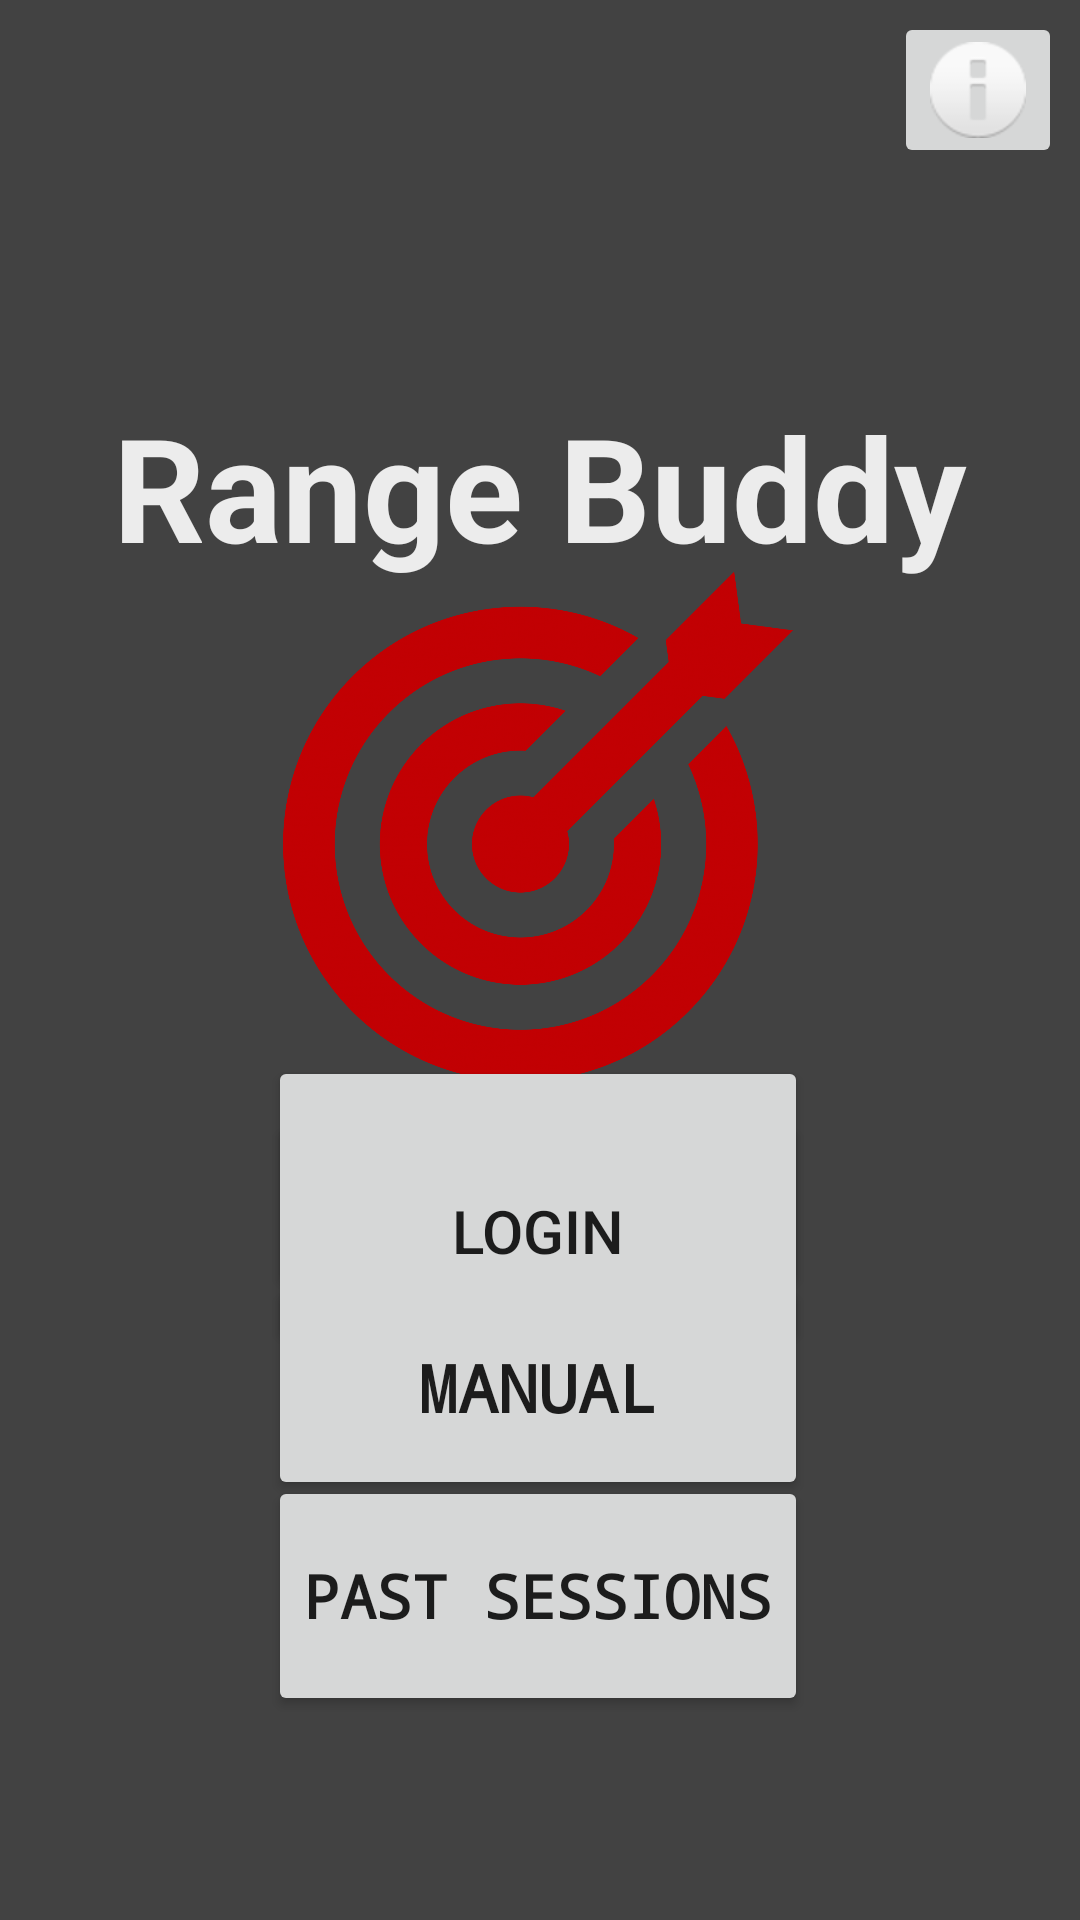

Named icons in this screenshot (1080×1920) and their bounding boxes, (x1, y1, x2, y2):
Help: (906, 30, 1050, 150)
